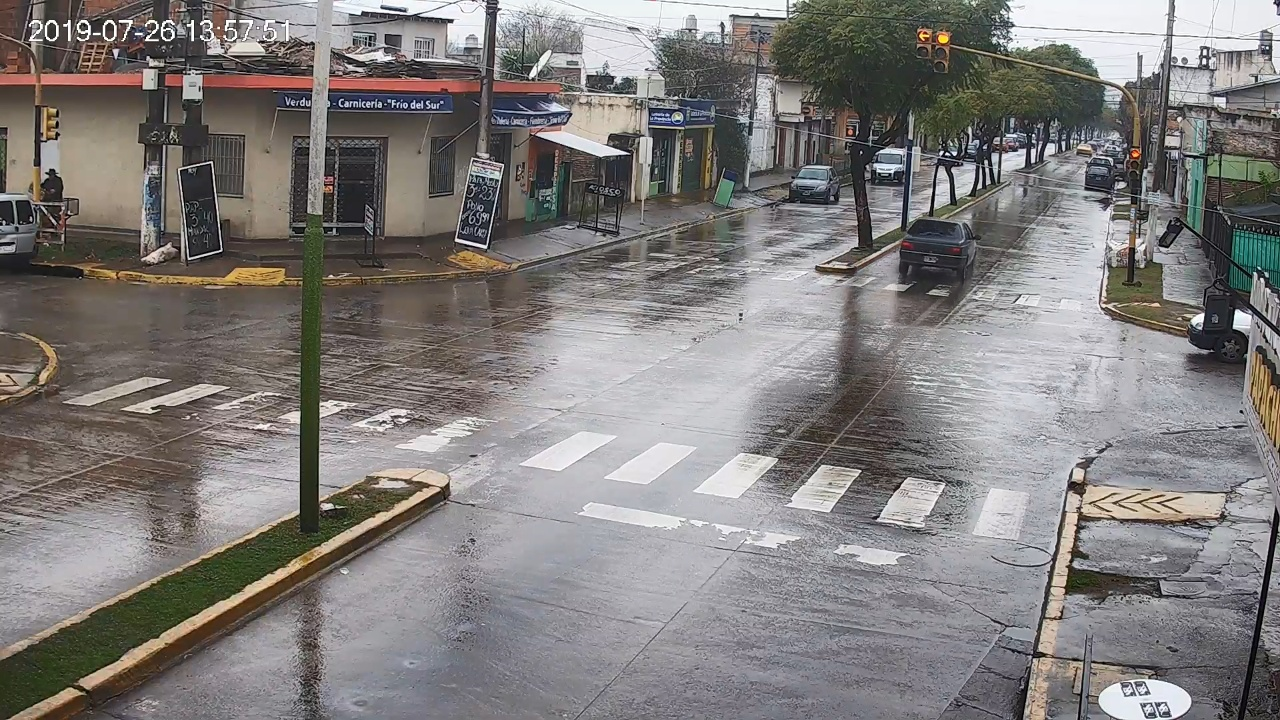car: (900, 217, 981, 280)
traffic light: (935, 31, 949, 73), (1129, 146, 1140, 179)
